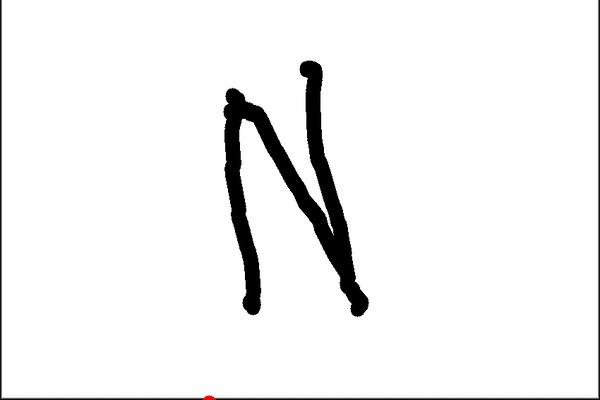N: (215, 54, 374, 319)
